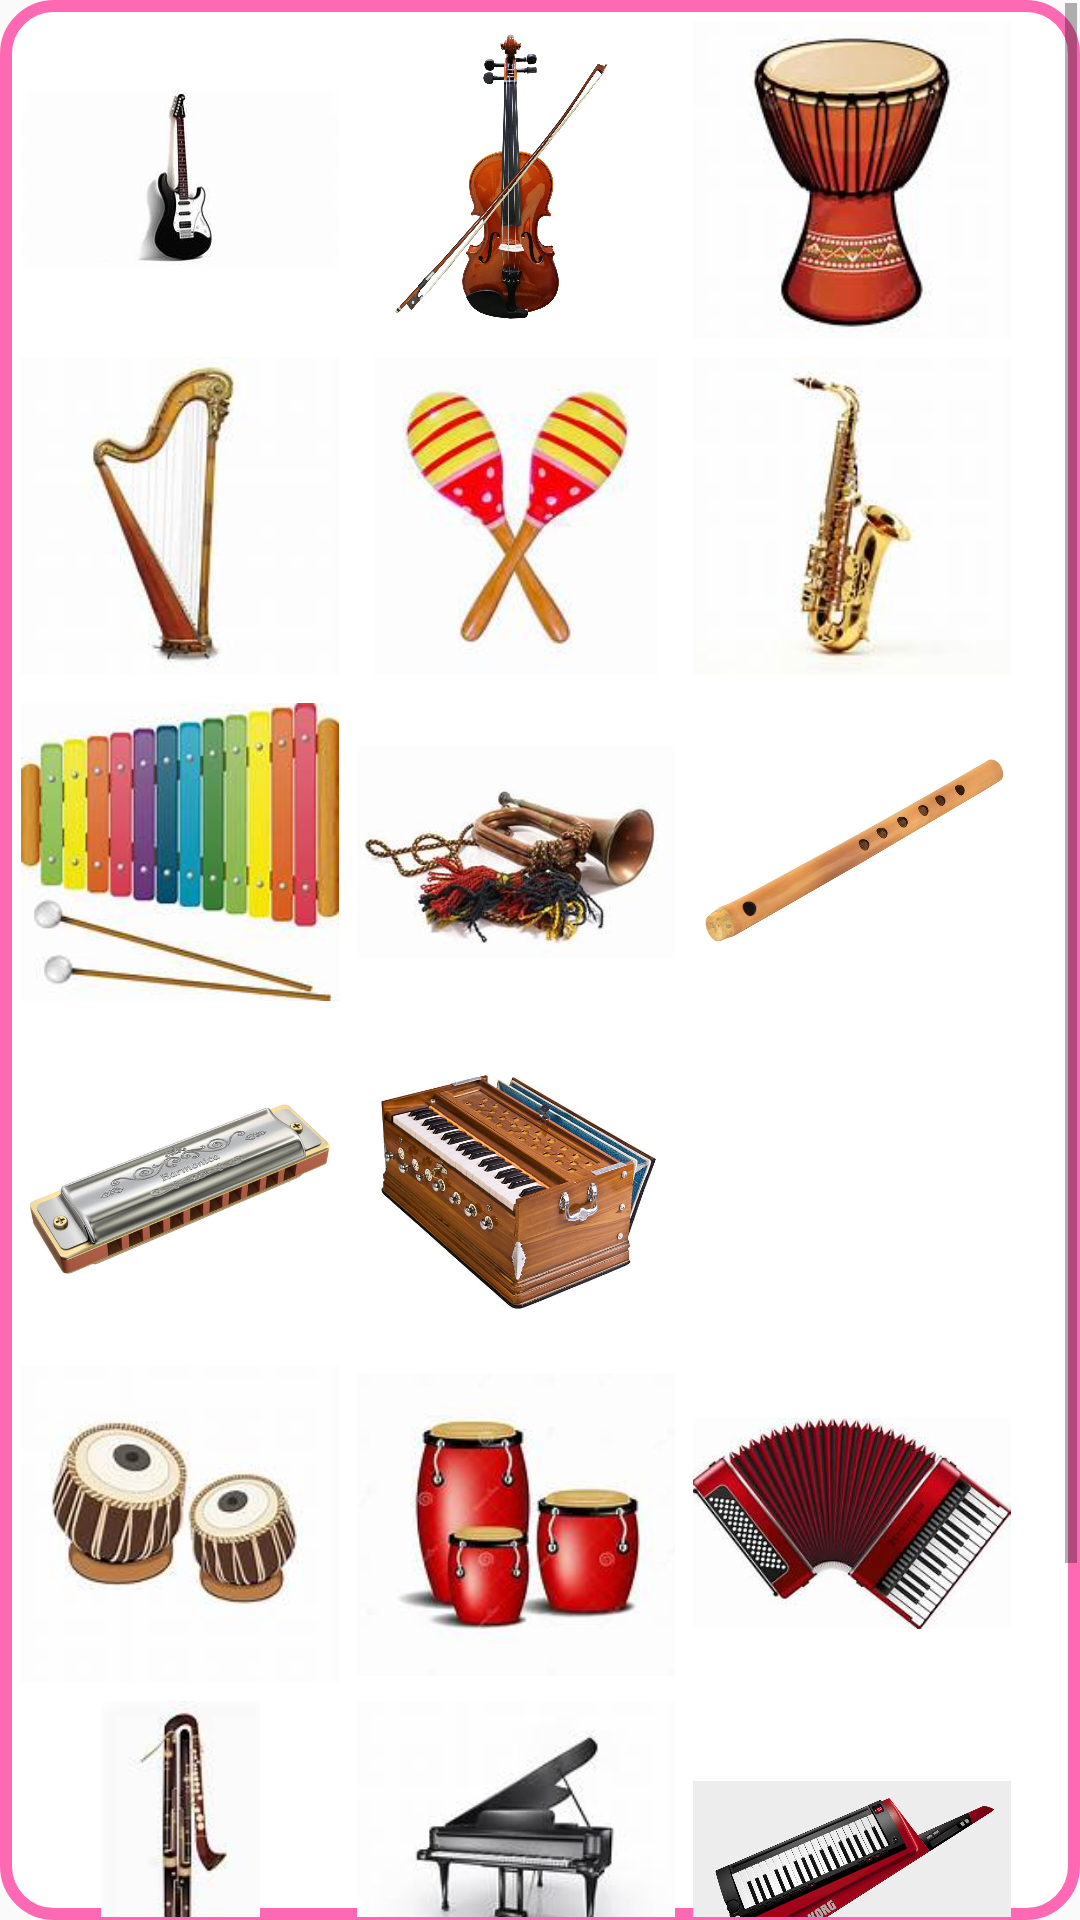

Screen size 1080*1920. Icon name, then its center in pixels as (x,y):
Accordion: (852,1523)
Bugle: (510,867)
Congas: (520,1524)
Djembe: (852,182)
Flute: (854,850)
Glockenspiel: (180,852)
Guitar: (175,176)
Harmonica: (180,1189)
Harmonium: (518,1192)
Harp: (163,514)
Maracas: (516,518)
Saxophone: (853,516)
Tabla: (174,1513)
violin: (501,176)
